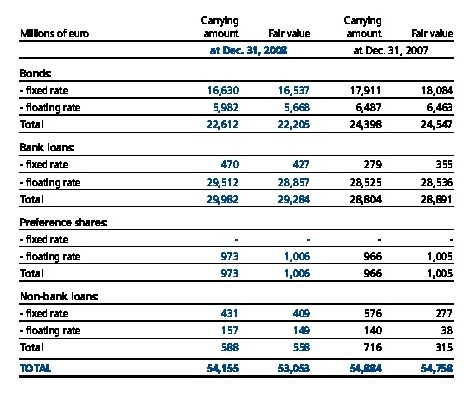table: (0, 0, 471, 394)
